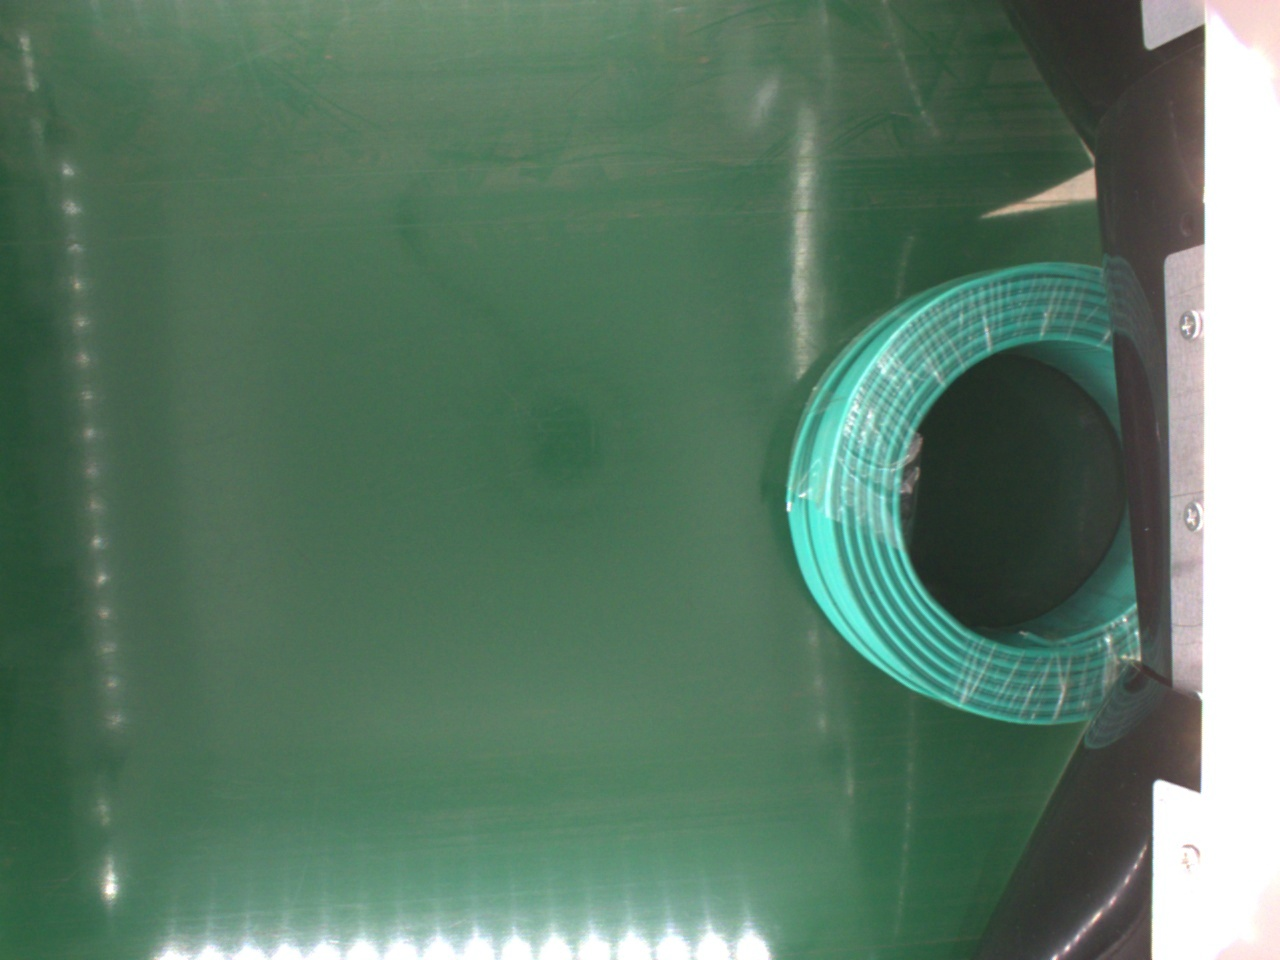green: (780, 260, 1139, 727)
